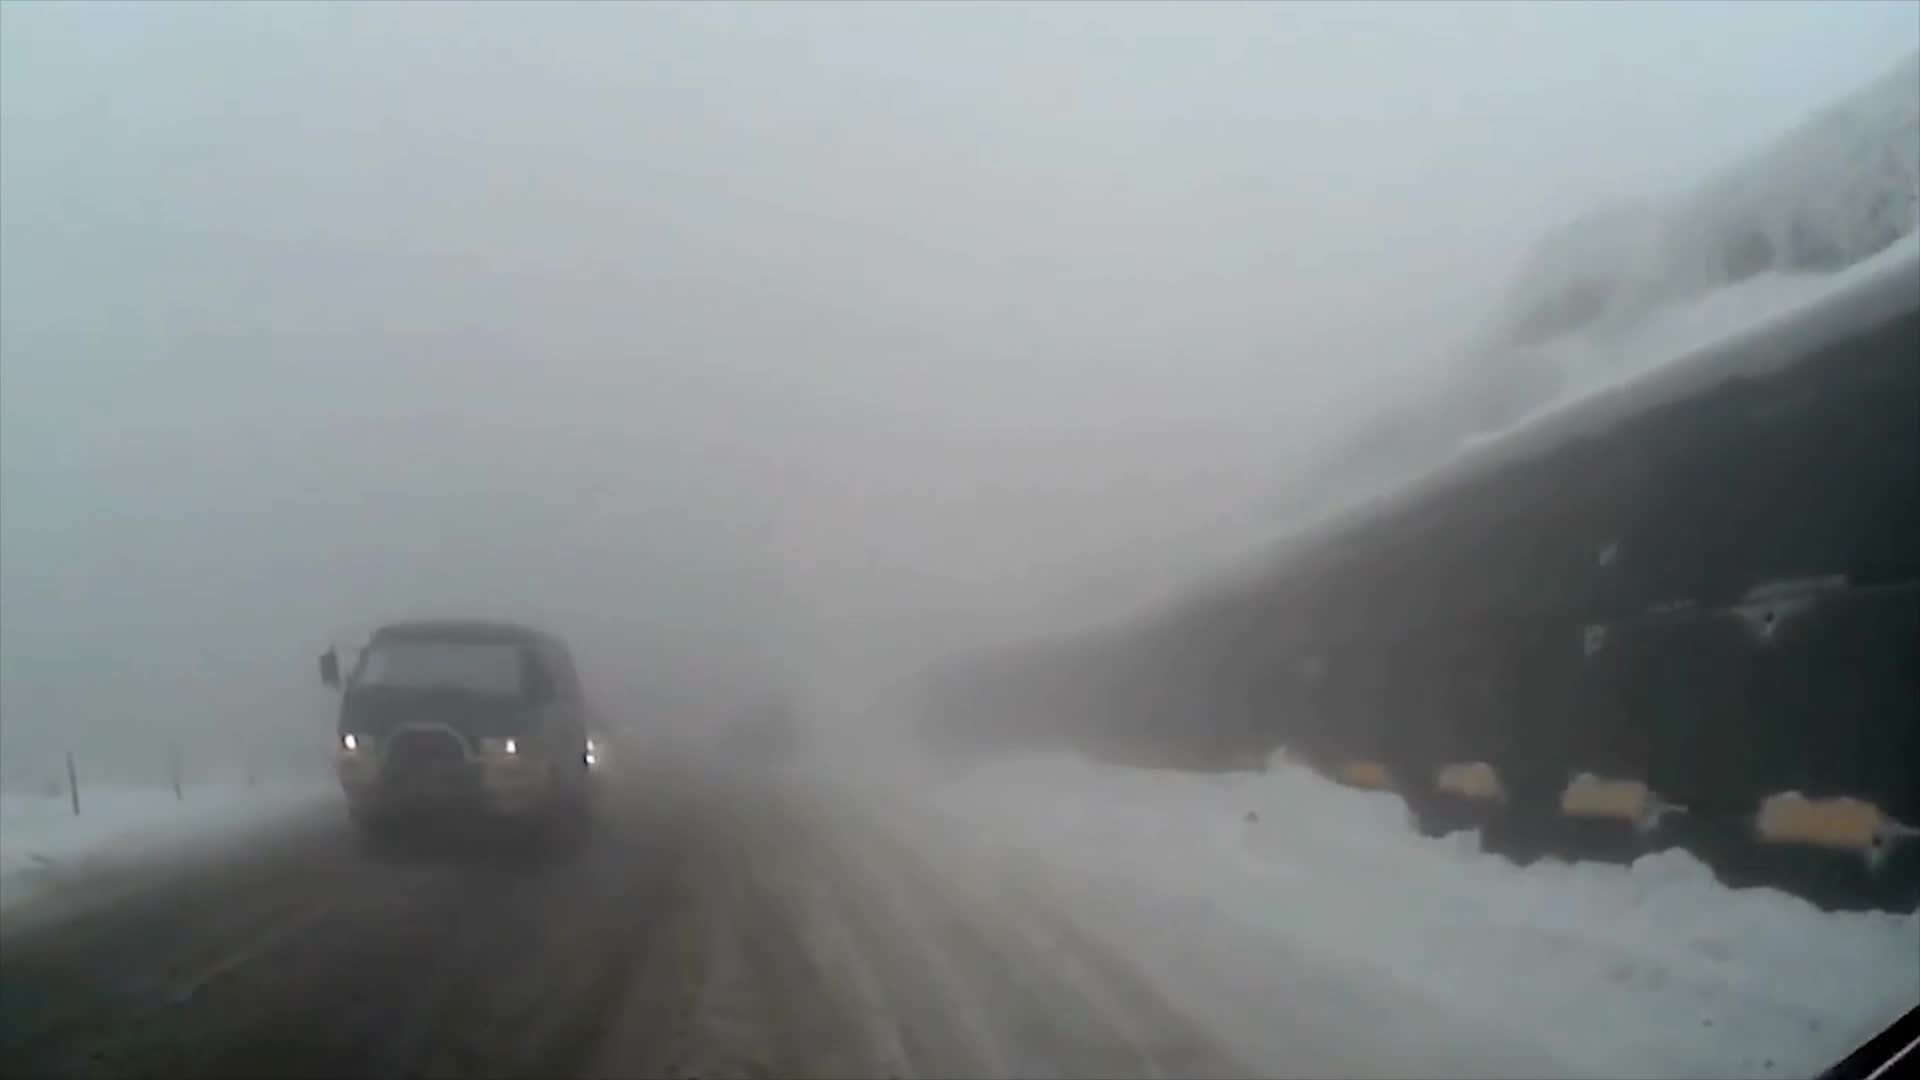vehicle: (314, 620, 595, 872)
